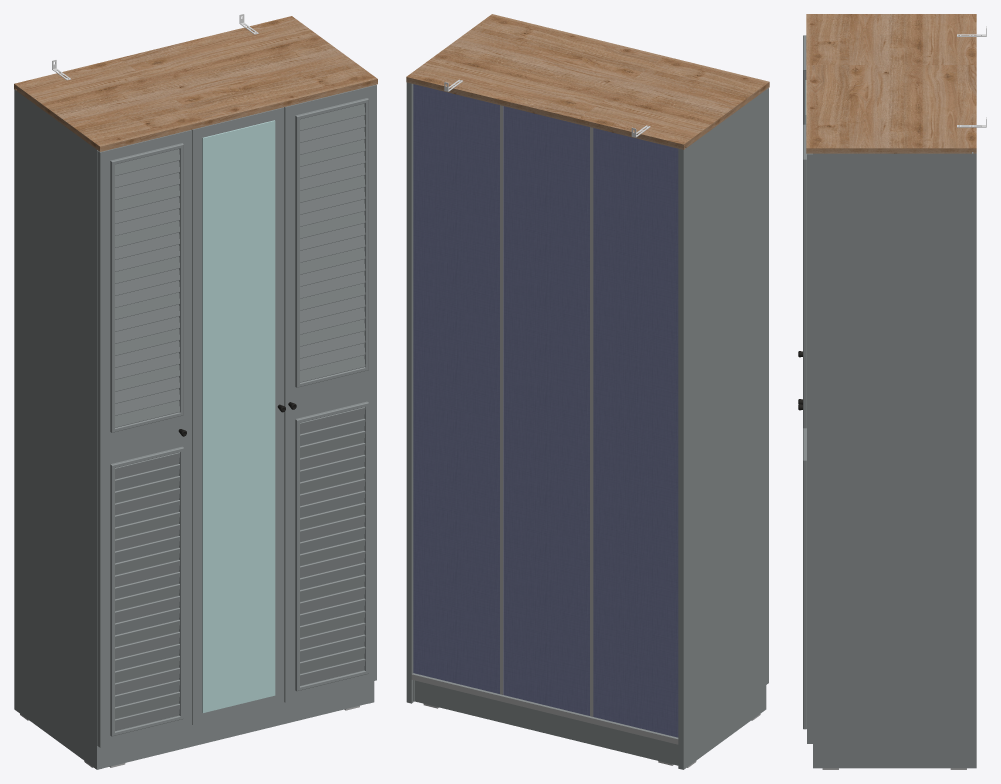
3 views of the same model, side by side, from view 1: azimuth 30°, elevation 25°; view 2: azimuth 150°, elevation 25°; view 3: azimuth 270°, elevation 25° (orthographic).
Visible parts, largest first — view 1: 3_kapaklı_dolap_v3_SOL PANEL-1 - Parça, 3_kapaklı_dolap_v3_SRMB_AYN_4MM,-1 - Parça, 3_kapaklı_dolap_v3_ÜST PANEL-1 - Parça, 3_kapaklı_dolap_v3_SAMET_MENTEŞE_1_Kapak_2-1 - Parça, 3_kapaklı_dolap_v3_SAMET_MENTEŞE_2_Kapak_1-1 - Parça, 3_kapaklı_dolap_v3_SAMET_MENTEŞE_1_Kapak_1-1 - Parça, 3_kapaklı_dolap_v3_BAZA-1 - Parça, 3_kapaklı_dolap_v3_SAMET_MENTEŞE_2_Kapak_1-1 - Parça 2, 3_kapaklı_dolap_v3_Alınmış88-34 - Parça, 3_kapaklı_dolap_v3_Alınmış88-35 - Parça, 3_kapaklı_dolap_v3_Alınmış88-37 - Parça, 3_kapaklı_dolap_v3_Alınmış88-42 - Parça (+40 smaller); view 2: 3_kapaklı_dolap_v3_SOL PANEL-1 - Parça, 3_kapaklı_dolap_v3_Arkalık_1_Arkalık-7 - Parça, 3_kapaklı_dolap_v3_Arkalık_1_Arkalık-8 - Parça, 3_kapaklı_dolap_v3_Arkalık_1_Arkalık-1 - Parça, 3_kapaklı_dolap_v3_ÜST PANEL-1 - Parça, 3_kapaklı_dolap_v3_ARKALIK-1 - Parça, 3_kapaklı_dolap_v3_SOL PANEL-1 - Parça 2, 3_kapaklı_dolap_v3_SAĞ PANEL-1 - Parça 2, 3_kapaklı_dolap_v3_Arkalık_1_H Profil-1 - Parça, 3_kapaklı_dolap_v3_Arkalık_1_H Profil-2 - Parça, 3_kapaklı_dolap_v3_ÜST PANEL-1 - Parça 2, 3_kapaklı_dolap_v3_SAĞ PANEL-1 - Parça (+2 smaller); view 3: 3_kapaklı_dolap_v3_SAĞ PANEL-1 - Parça, 3_kapaklı_dolap_v3_ÜST PANEL-1 - Parça, 3_kapaklı_dolap_v3_SAMET_MENTEŞE_1_Kapak_2-1 - Parça 2, PRFL_SRMD2^3_kapaklı_dolap_v3_SAMET_MENTEŞE_2-9 - Parça, PRFL_SRMD2^3_kapaklı_dolap_v3_SAMET_MENTEŞE_2-11 - Parça, 3_kapaklı_dolap_v3_ÜST PANEL-1 - Parça 2.
Boxes of the visible parts, box(x1,y1,x2,y2) form: 3_kapaklı_dolap_v3_SOL PANEL-1 - Parça: box(14, 89, 96, 769); 3_kapaklı_dolap_v3_SRMB_AYN_4MM,-1 - Parça: box(202, 120, 275, 712); 3_kapaklı_dolap_v3_ÜST PANEL-1 - Parça: box(14, 16, 377, 146); 3_kapaklı_dolap_v3_SAMET_MENTEŞE_1_Kapak_2-1 - Parça: box(285, 85, 376, 702); 3_kapaklı_dolap_v3_SAMET_MENTEŞE_2_Kapak_1-1 - Parça: box(100, 130, 191, 747); 3_kapaklı_dolap_v3_SAMET_MENTEŞE_1_Kapak_1-1 - Parça: box(192, 108, 284, 724); 3_kapaklı_dolap_v3_BAZA-1 - Parça: box(102, 682, 368, 768); 3_kapaklı_dolap_v3_SAMET_MENTEŞE_2_Kapak_1-1 - Parça 2: box(97, 130, 191, 747); 3_kapaklı_dolap_v3_Alınmış88-34 - Parça: box(300, 295, 365, 346); 3_kapaklı_dolap_v3_Alınmış88-35 - Parça: box(300, 331, 365, 382); 3_kapaklı_dolap_v3_Alınmış88-37 - Parça: box(300, 622, 365, 674); 3_kapaklı_dolap_v3_Alınmış88-42 - Parça: box(300, 443, 365, 494); 3_kapaklı_dolap_v3_SOL PANEL-1 - Parça: box(683, 90, 766, 769); 3_kapaklı_dolap_v3_Arkalık_1_Arkalık-7 - Parça: box(503, 106, 589, 715); 3_kapaklı_dolap_v3_Arkalık_1_Arkalık-8 - Parça: box(413, 84, 499, 693); 3_kapaklı_dolap_v3_Arkalık_1_Arkalık-1 - Parça: box(593, 128, 678, 737); 3_kapaklı_dolap_v3_ÜST PANEL-1 - Parça: box(406, 14, 769, 147); 3_kapaklı_dolap_v3_ARKALIK-1 - Parça: box(414, 680, 678, 765); 3_kapaklı_dolap_v3_SOL PANEL-1 - Parça 2: box(678, 148, 683, 769); 3_kapaklı_dolap_v3_SAĞ PANEL-1 - Parça 2: box(406, 82, 411, 703); 3_kapaklı_dolap_v3_Arkalık_1_H Profil-1 - Parça: box(590, 127, 593, 716); 3_kapaklı_dolap_v3_Arkalık_1_H Profil-2 - Parça: box(500, 105, 503, 694); 3_kapaklı_dolap_v3_ÜST PANEL-1 - Parça 2: box(406, 77, 769, 149); 3_kapaklı_dolap_v3_SAĞ PANEL-1 - Parça: box(411, 83, 414, 703); 3_kapaklı_dolap_v3_SAĞ PANEL-1 - Parça: box(813, 152, 976, 768); 3_kapaklı_dolap_v3_ÜST PANEL-1 - Parça: box(806, 14, 976, 148); 3_kapaklı_dolap_v3_SAMET_MENTEŞE_1_Kapak_2-1 - Parça 2: box(807, 153, 812, 743); PRFL_SRMD2^3_kapaklı_dolap_v3_SAMET_MENTEŞE_2-9 - Parça: box(803, 159, 806, 428); PRFL_SRMD2^3_kapaklı_dolap_v3_SAMET_MENTEŞE_2-11 - Parça: box(803, 460, 806, 729); 3_kapaklı_dolap_v3_ÜST PANEL-1 - Parça 2: box(806, 148, 976, 153).
Bounding box in the file's own units: 0.97 × 2.12 × 0.5741.
Materials: 86 (5 with a texture image).
